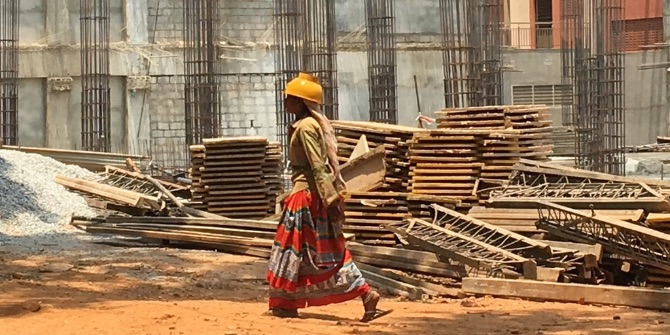cap: (276, 70, 329, 103)
